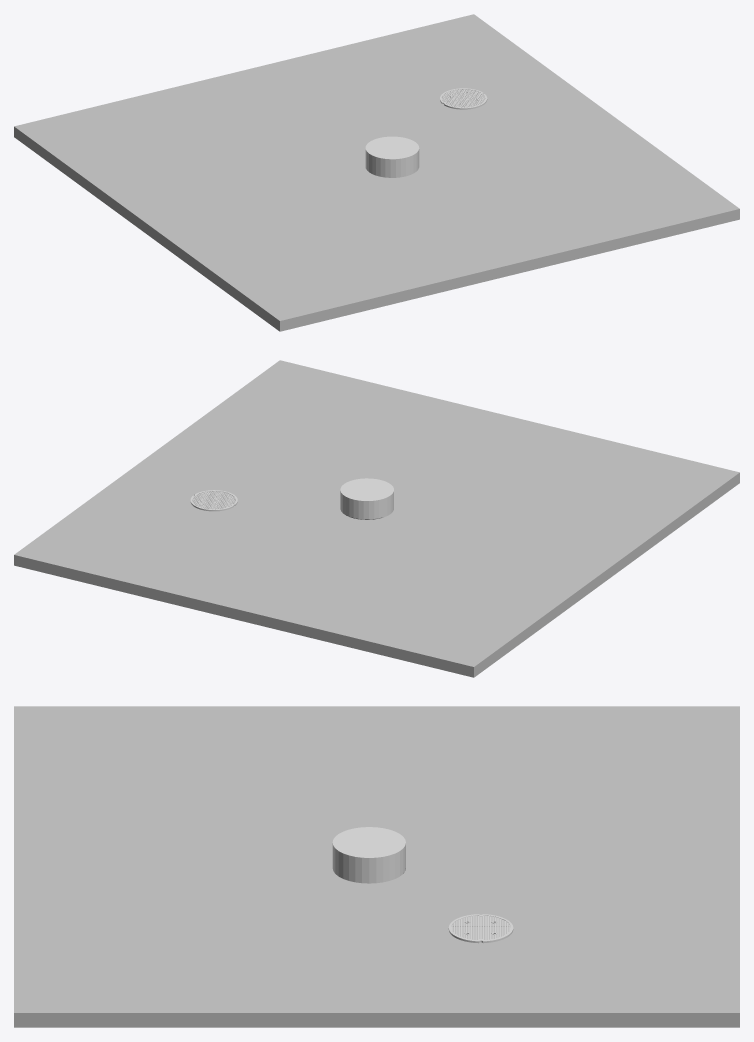
File: new_manhole_road1.fbx
3 views of the same model, one above another, from view 1: azimuth 30°, elevation 25°; view 2: azimuth 150°, elevation 25°; view 3: azimuth 270°, elevation 25° (orthographic). The views are drawn at different scales.
Parts seen in each view (by area): view 1: Road_1, Cylinder, ManholeHeadRing; view 2: Road_1, Cylinder, ManholeHeadRing; view 3: Road_1, Cylinder, ManholeHeadRing.
Boxes of the visible parts, bbox=[...] form: Road_1: bbox=[14, 14, 739, 331]; Cylinder: bbox=[365, 136, 419, 177]; ManholeHeadRing: bbox=[440, 88, 487, 109]; Road_1: bbox=[14, 360, 739, 677]; Cylinder: bbox=[340, 478, 393, 519]; ManholeHeadRing: bbox=[190, 490, 237, 511]; Road_1: bbox=[14, 706, 739, 1027]; Cylinder: bbox=[332, 827, 405, 883]; ManholeHeadRing: bbox=[448, 914, 513, 943].
Size of the model in its own units: 899 by 91 by 900.
